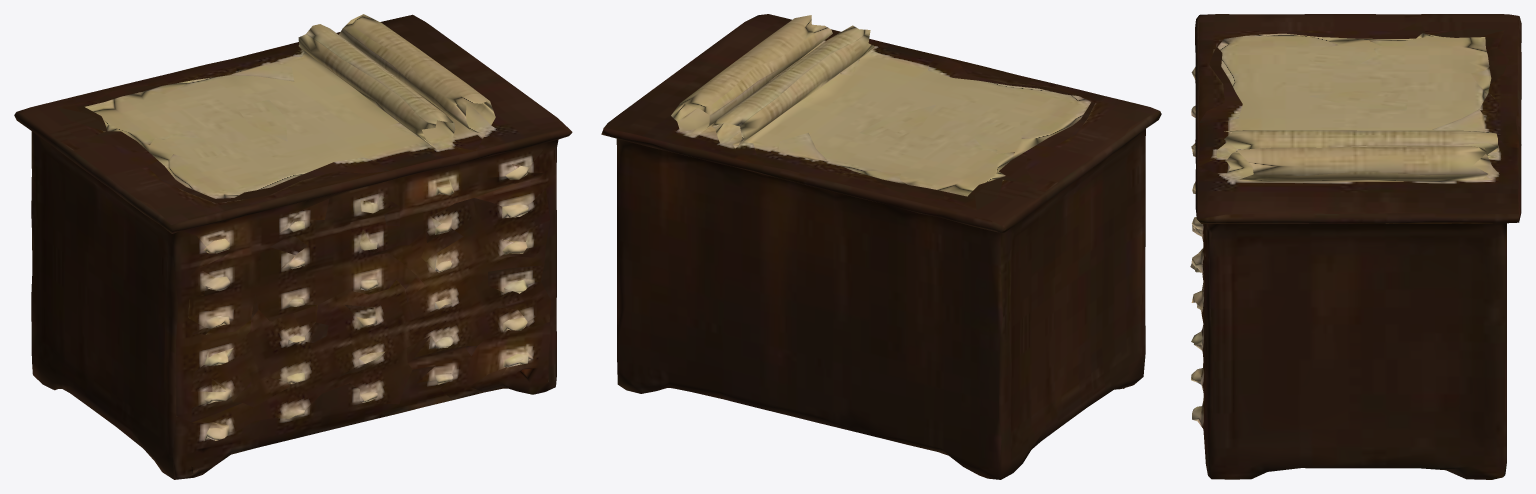
The model's file is mueble_planos.glb.
The picture shows the model from 3 angles, left to right: view 1: azimuth 30°, elevation 25°; view 2: azimuth 150°, elevation 25°; view 3: azimuth 270°, elevation 25°; orthographic projection. The views are drawn at different scales.
Visible parts, largest first — view 1: geometry_0; view 2: geometry_0; view 3: geometry_0.
Boxes of the visible parts, left/top/right/bottom form: geometry_0: left=14, top=14, right=572, bottom=479; geometry_0: left=601, top=14, right=1161, bottom=479; geometry_0: left=1190, top=14, right=1521, bottom=479.
Size of the model in its own units: 1.3 by 0.9 by 0.9.
Materials: 1 (1 with a texture image).
